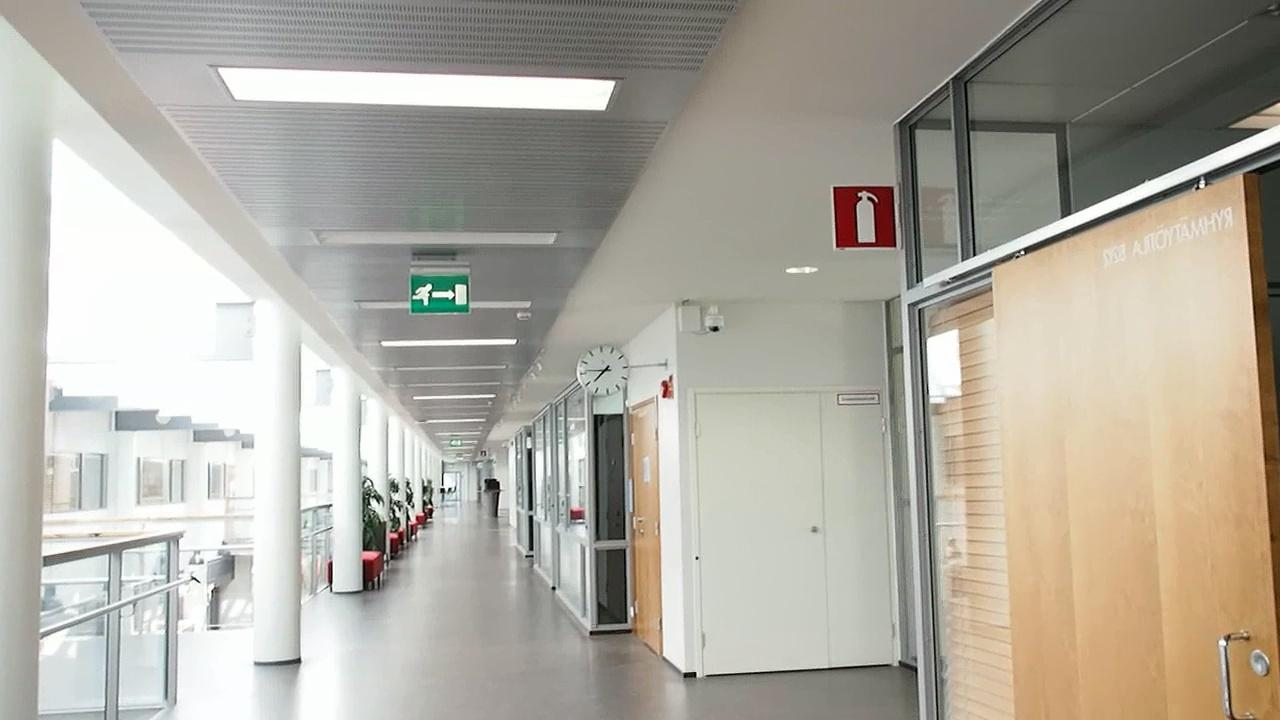clock: (575, 339, 630, 399)
exit: (404, 270, 472, 318)
fireextinguisher: (833, 181, 900, 250)
